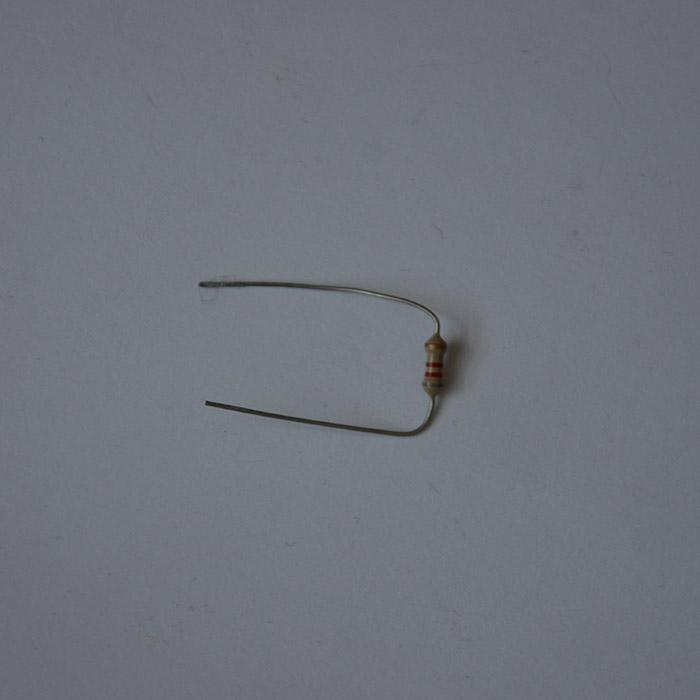resistor: (421, 332, 446, 395)
